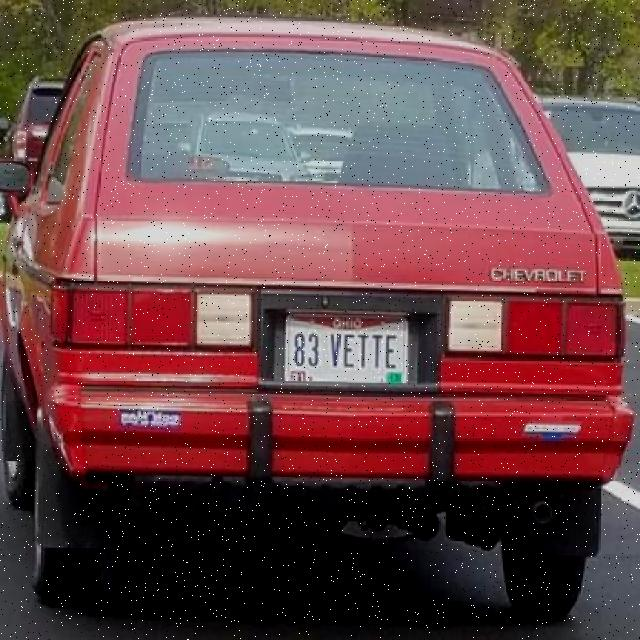licenseplate: (284, 313, 408, 383)
